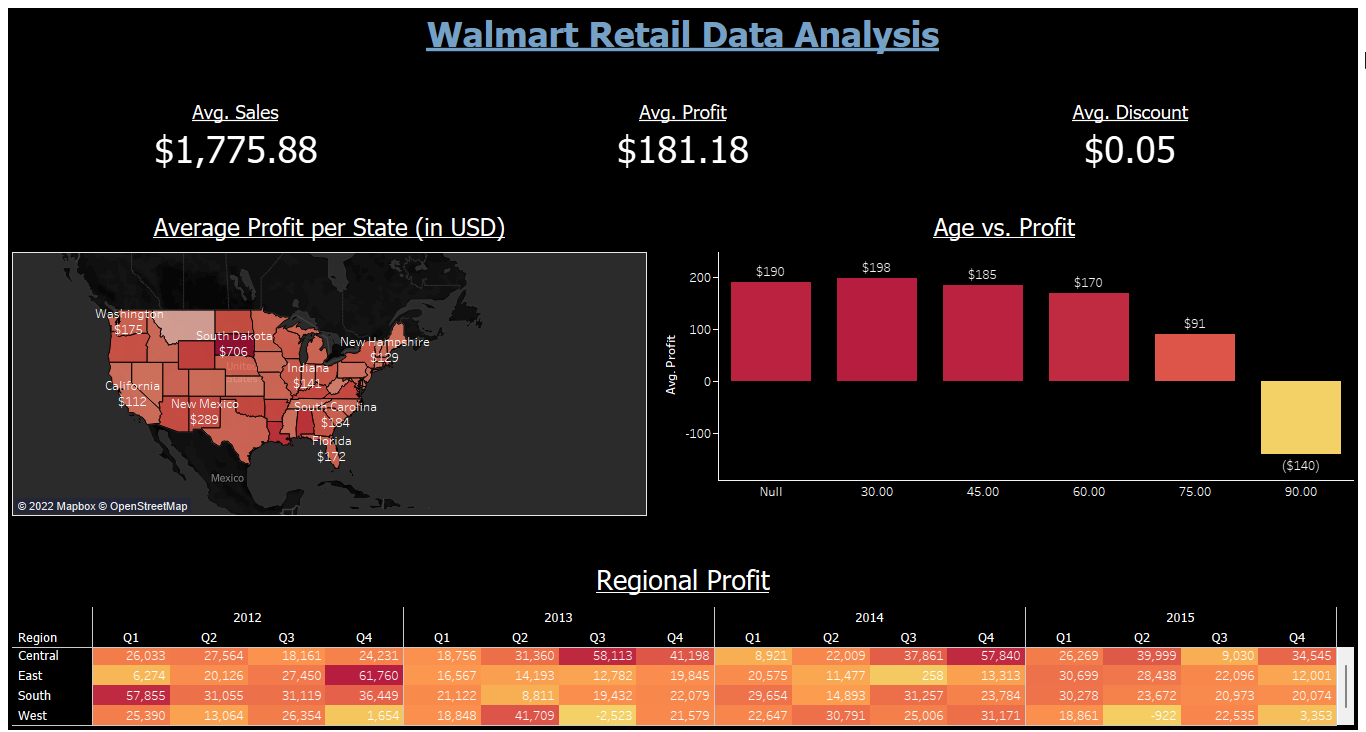

The dashboard page shown, as its layout file describes it:
{"tool":"tableau","page":{"name":"Walmart Retail Dashboard","canvas":[1000,1000],"units":"permille","ordinal":0},"visuals":[{"type":"text","box":[6.9,13.7,986.1,87.3]},{"type":"blank","box":[6.9,101,986.1,54.8]},{"type":"worksheet","title":"Card - Avg Measures","mark":"Automatic","box":[6.9,155.8,986.1,138.7]},{"type":"blank","box":[6.9,294.5,986.1,54.8]},{"type":"worksheet","title":"Geo - State vs. Profit","mark":"Multipolygon","box":[6.9,349.3,556.7,354.6]},{"type":"worksheet","title":"Bins - Age vs. Profit","mark":"Automatic","rows":["Profit"],"cols":["Customer Age (bin)"],"box":[563.6,349.3,429.4,354.6]},{"type":"blank","box":[6.9,703.9,986.1,46.1]},{"type":"worksheet","title":"Matrix - Regional Profit","mark":"Square","rows":["Region"],"cols":["Order Date","Order Date"],"box":[6.9,750,986.1,236.3]}]}

Visuals, with their boxes on the dashboard's canvas, which has no fixed pixel size, in thousandths of its width and height (x1, y1, x2, y2). These are canvas units, not pixel positions in the 1366x732 screenshot, which may show the page scaled, cropped or inside an application window:
text: <box>7,14,993,101</box>
blank: <box>7,101,993,156</box>
"Card - Avg Measures" worksheet: <box>7,156,993,294</box>
blank: <box>7,294,993,349</box>
"Geo - State vs. Profit" worksheet (Multipolygon marks): <box>7,349,564,704</box>
"Bins - Age vs. Profit" worksheet: <box>564,349,993,704</box>
blank: <box>7,704,993,750</box>
"Matrix - Regional Profit" worksheet (Square marks): <box>7,750,993,986</box>
